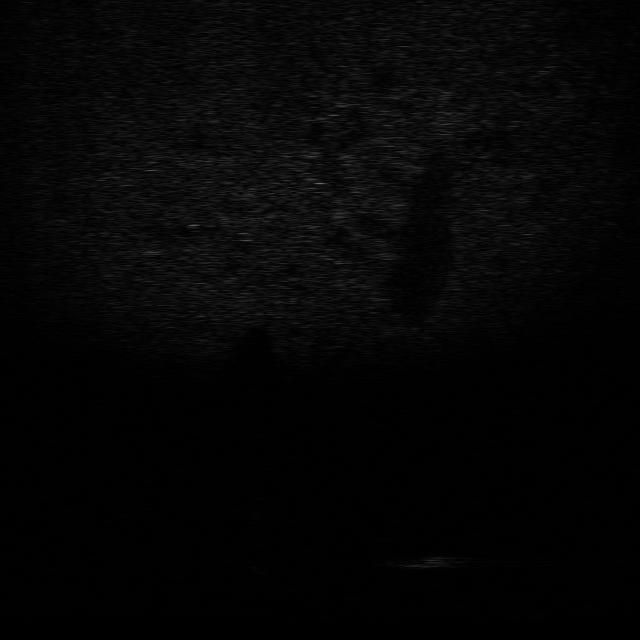ball: (236, 476, 282, 504)
metal bucket: (392, 548, 460, 573)
tyre: (245, 545, 291, 578)
